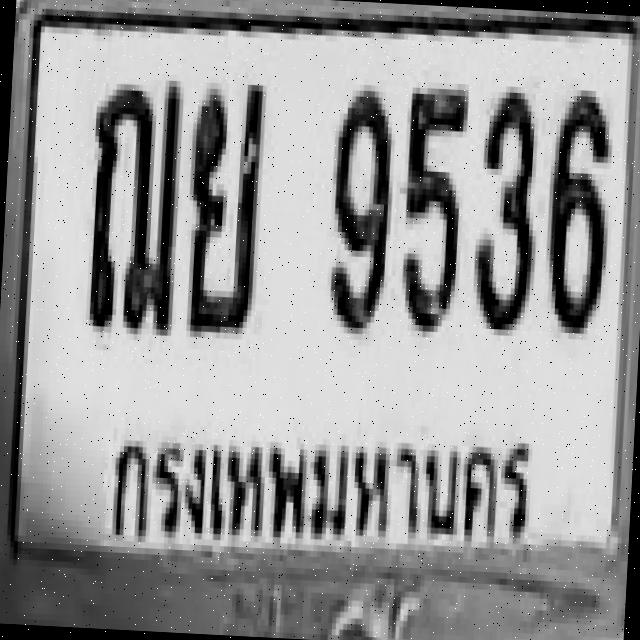21ChorChoe: (82, 74, 181, 333)
3: (468, 85, 540, 331)
43YorYak: (179, 76, 267, 335)
5: (396, 84, 466, 330)
6: (543, 89, 611, 329)
9: (322, 83, 394, 330)
Bangkok: (98, 413, 544, 558)
